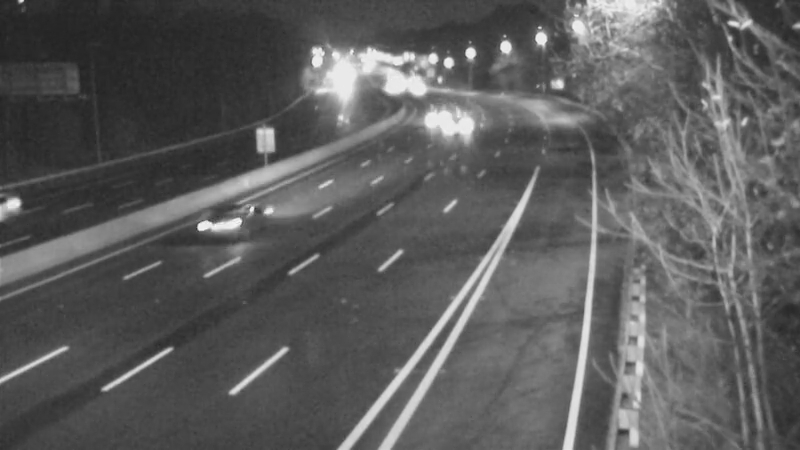vehicle: (204, 166, 284, 246), (1, 173, 66, 253), (410, 85, 460, 135), (441, 94, 491, 144)
